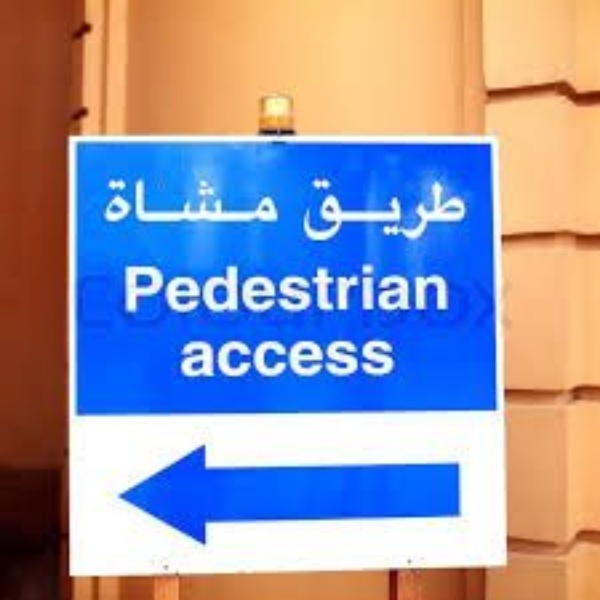text: (305, 177, 320, 243), (321, 177, 336, 243), (337, 177, 352, 243), (353, 177, 368, 243), (369, 177, 384, 243), (385, 177, 400, 243), (401, 177, 416, 243), (417, 177, 432, 243), (433, 177, 448, 243), (449, 177, 464, 243), (433, 259, 449, 318), (129, 259, 144, 318), (145, 259, 160, 318), (161, 259, 176, 318), (177, 259, 192, 318), (193, 259, 208, 318), (209, 259, 224, 318), (225, 259, 240, 318), (241, 259, 256, 318), (257, 259, 272, 318), (273, 259, 288, 318), (289, 259, 304, 318), (305, 259, 320, 318), (321, 259, 336, 318), (337, 259, 352, 318), (353, 259, 368, 318), (369, 259, 384, 318), (385, 259, 400, 318), (401, 259, 416, 318), (417, 259, 432, 318), (113, 174, 128, 227), (129, 174, 144, 227), (145, 174, 160, 227), (161, 174, 176, 227), (177, 174, 192, 227), (193, 174, 208, 227), (209, 174, 224, 227), (225, 174, 240, 227), (241, 174, 256, 227), (257, 174, 272, 227), (193, 337, 208, 379), (209, 337, 224, 379), (225, 337, 240, 379), (241, 337, 256, 379), (257, 337, 272, 379), (273, 337, 288, 379), (289, 337, 304, 379), (305, 337, 320, 379), (321, 337, 336, 379), (337, 337, 352, 379), (353, 337, 368, 379), (369, 337, 384, 379), (179, 337, 192, 379), (273, 174, 281, 227), (385, 337, 395, 379), (121, 259, 128, 318), (105, 174, 112, 227), (299, 177, 304, 243), (465, 177, 467, 243)
